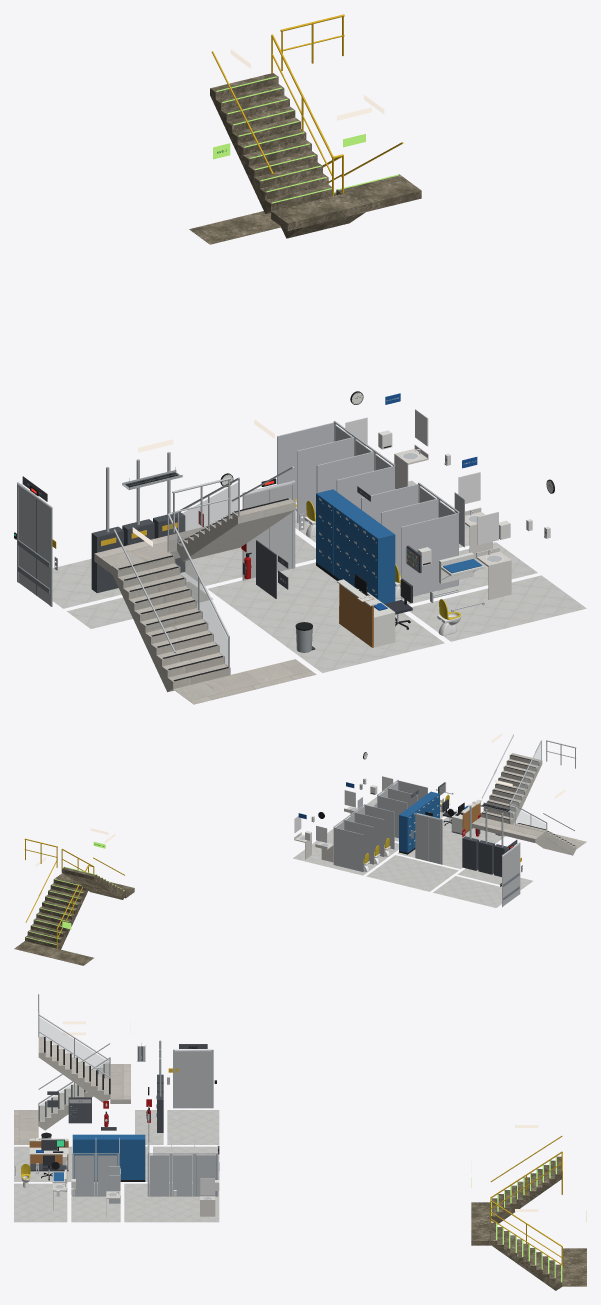
File: 25_n2_nucleo_y_escaleras.glb
3 renders of one model, top to bottom at view 1: azimuth 30°, elevation 25°; view 2: azimuth 150°, elevation 25°; view 3: azimuth 270°, elevation 25°, orthographic. The views are drawn at different scales.
Parts seen in each view (by area): view 1: escalera de dos tramos.001, escalera de dos tramos.003, piso · Vestíbulo de elevador.001, mamparas de sanitario.002, mamparas de sanitario.003, piso · Sanitario neutro.001, lavabo_ceramica (×3), puertas_montacargas, puertas_elevador_120, lockers_visitantes (×2), mostrador_lockers, piso de llegada (+8 smaller); view 2: escalera de dos tramos.001, escalera de dos tramos.003, mamparas de sanitario.002, piso · Elevador.001, tablero_electrico (×3), puertas_elevador_120, piso · Montacargas.001, piso · Vestíbulo de elevador.001, mamparas de sanitario.003, puertas_montacargas, piso · Sanitarios · mujeres.001, piso de llegada.001 (+4 smaller); view 3: escalera de dos tramos.003, escalera de dos tramos.001, mamparas de sanitario.002, piso · Sanitarios · mujeres.001, puertas_montacargas, piso · Sanitario neutro.001, piso · Montacargas.001, mamparas de sanitario.003, piso · Sanitarios · hombres.001, lockers_visitantes (×2), piso · Vestíbulo de elevador.001, piso de llegada.001 (+7 smaller).
Boxes of the visible parts, <box> form: escalera de dos tramos.001: <box>94,419,295,692</box>; escalera de dos tramos.003: <box>210,14,421,238</box>; piso · Vestíbulo de elevador.001: <box>208,562,444,672</box>; mamparas de sanitario.002: <box>277,421,395,523</box>; mamparas de sanitario.003: <box>361,482,459,599</box>; piso · Sanitario neutro.001: <box>409,575,586,641</box>; lavabo_ceramica (×3): <box>394,409,511,599</box>; puertas_montacargas: <box>17,482,57,606</box>; puertas_elevador_120: <box>242,478,304,580</box>; lockers_visitantes (×2): <box>333,502,395,603</box>; mostrador_lockers: <box>337,574,395,647</box>; piso de llegada: <box>173,659,316,704</box>; escalera de dos tramos.001: <box>471,733,576,855</box>; escalera de dos tramos.003: <box>24,828,134,949</box>; mamparas de sanitario.002: <box>333,804,394,871</box>; piso · Elevador.001: <box>366,855,458,891</box>; tablero_electrico (×3): <box>462,805,509,876</box>; puertas_elevador_120: <box>410,812,442,864</box>; piso · Montacargas.001: <box>433,876,501,907</box>; piso · Vestíbulo de elevador.001: <box>397,810,514,868</box>; mamparas de sanitario.003: <box>377,779,427,838</box>; puertas_montacargas: <box>502,842,522,907</box>; piso · Sanitarios · mujeres.001: <box>293,828,398,875</box>; piso de llegada.001: <box>14,941,93,965</box>; escalera de dos tramos.003: <box>471,1125,562,1290</box>; escalera de dos tramos.001: <box>38,994,130,1130</box>; mamparas de sanitario.002: <box>147,1137,218,1196</box>; piso · Sanitarios · mujeres.001: <box>124,1183,219,1222</box>; puertas_montacargas: <box>167,1046,213,1108</box>; piso · Sanitario neutro.001: <box>14,1183,67,1222</box>; piso · Montacargas.001: <box>167,1110,219,1144</box>; mamparas de sanitario.003: <box>72,1137,119,1196</box>; piso · Sanitarios · hombres.001: <box>71,1184,120,1222</box>; lockers_visitantes (×2): <box>124,1134,145,1181</box>; piso · Vestíbulo de elevador.001: <box>14,1146,147,1181</box>; piso de llegada.001: <box>562,1248,586,1286</box>.
Bounding box in the file's own units: 16.31 × 5.42 × 22.05.
48 materials, 8 textured.
